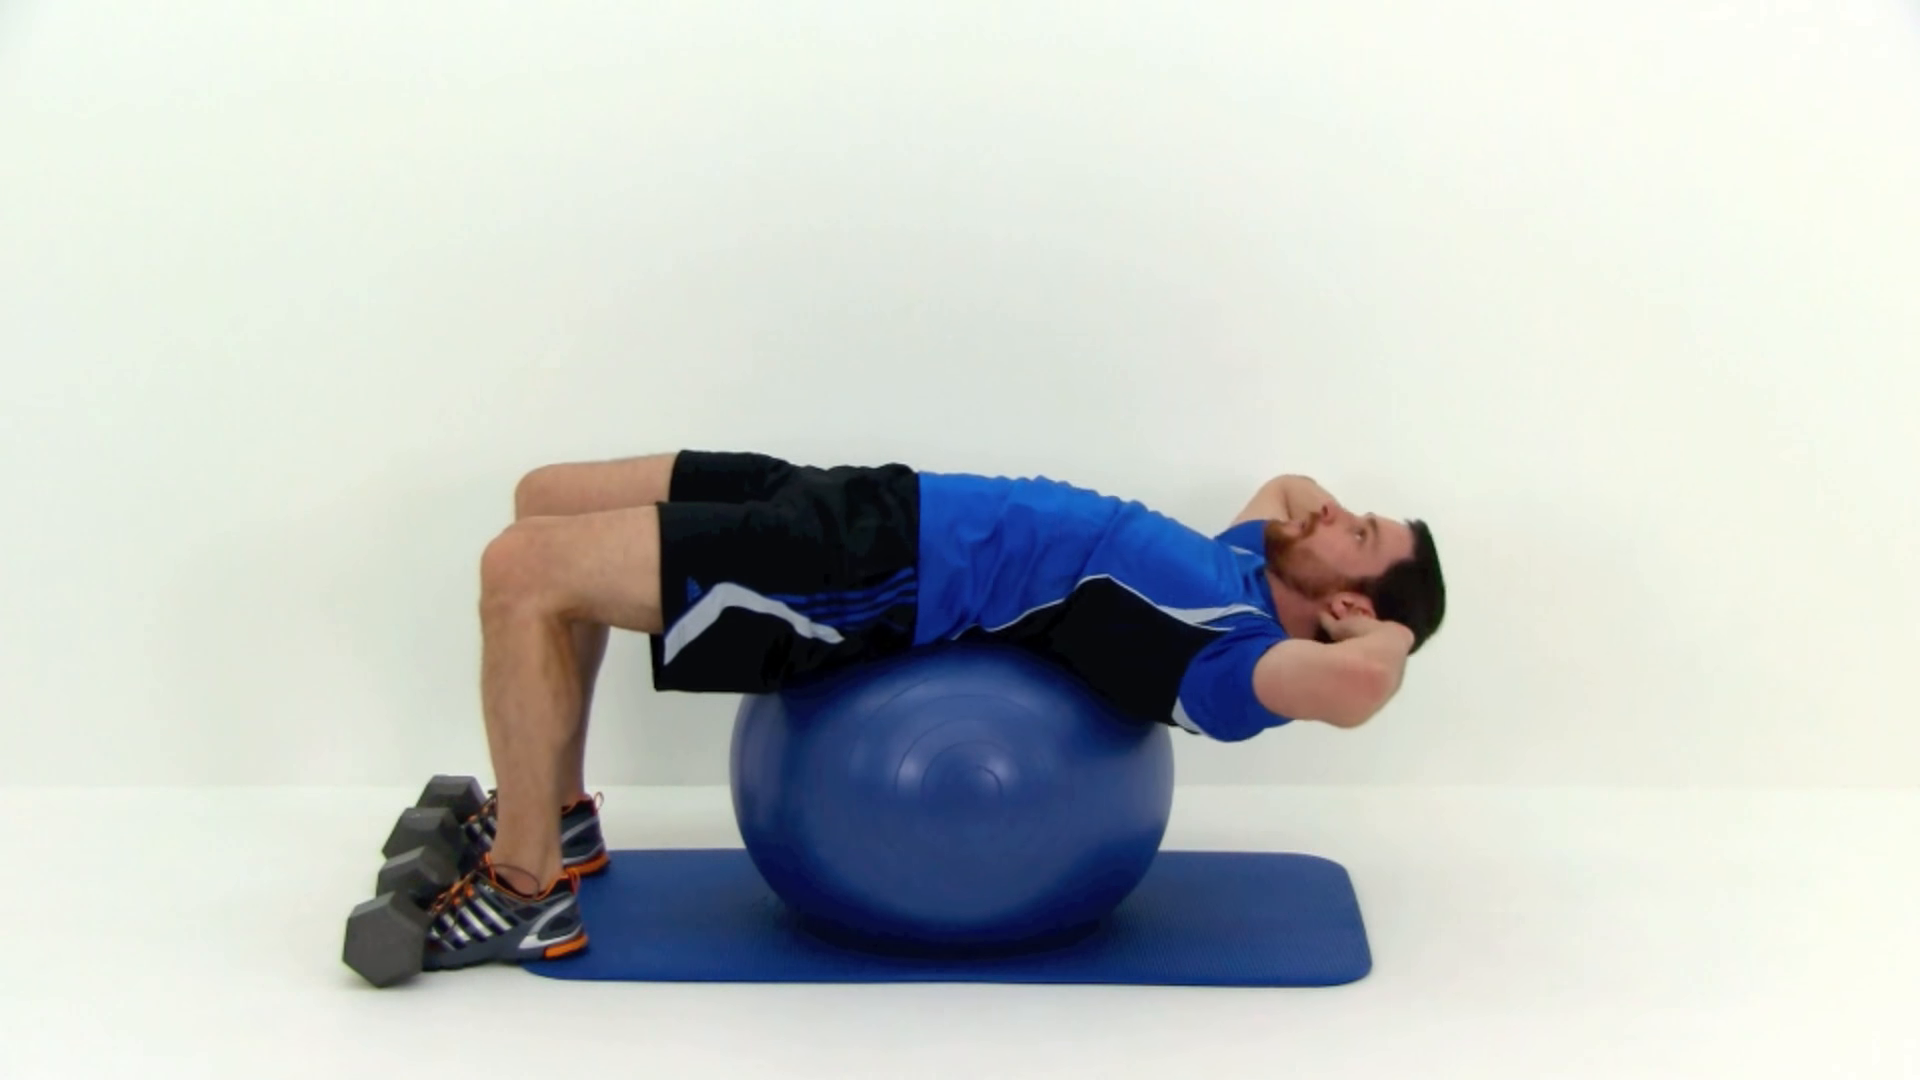yogaball: (713, 616, 1195, 963)
